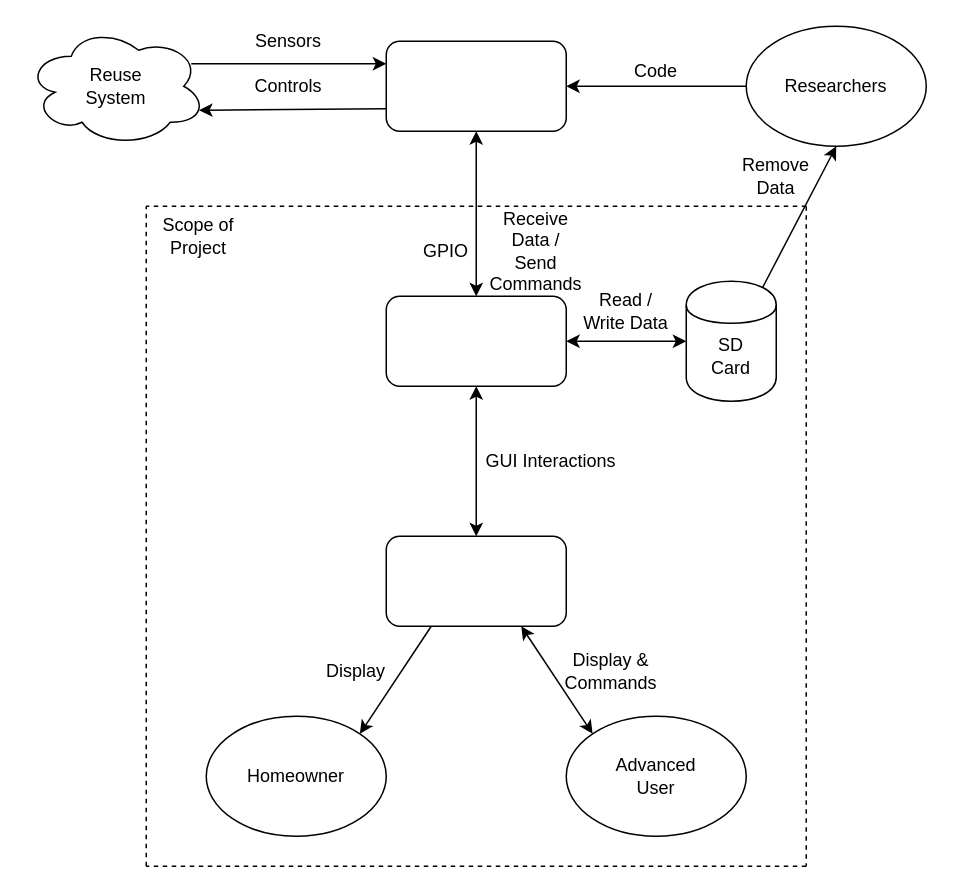
The diagram is 953 pixels wide and 894 high, and some of its shapes have lost their labels. The centre of each missing label's shape, as x and y in pixels:
Arduino Mega: the point at 475,85
Interface: the point at 475,580
Raspberry Pi: the point at 475,340
